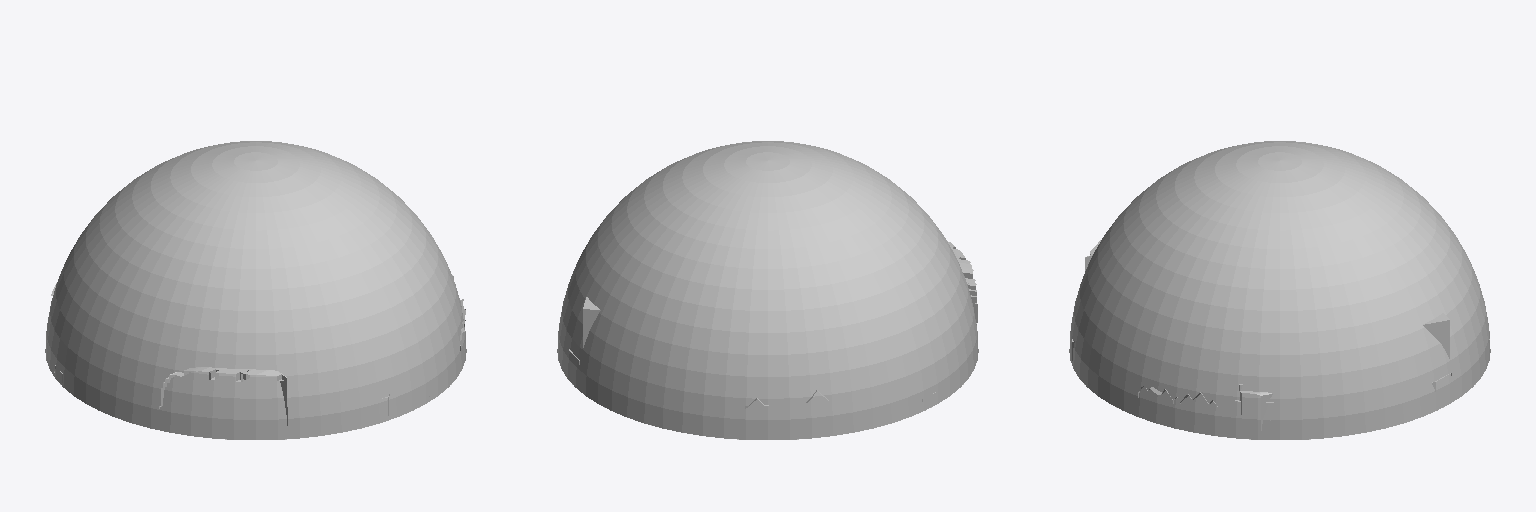
Rendered from test_context_01_all.obj.
The picture shows the model from 3 angles: view 1: azimuth 30°, elevation 25°; view 2: azimuth 150°, elevation 25°; view 3: azimuth 270°, elevation 25°; orthographic projection.
Visible parts, largest first — view 1: Sky, Buildings; view 2: Sky, Buildings; view 3: Sky, Buildings.
Part boxes in pixels (left/top/right/bottom): Sky: left=45, top=141, right=466, bottom=439; Buildings: left=51, top=275, right=465, bottom=425; Sky: left=557, top=141, right=978, bottom=439; Buildings: left=569, top=241, right=977, bottom=408; Sky: left=1069, top=141, right=1490, bottom=439; Buildings: left=1072, top=240, right=1489, bottom=430.
Size of the model in its own units: 240 by 120 by 240.